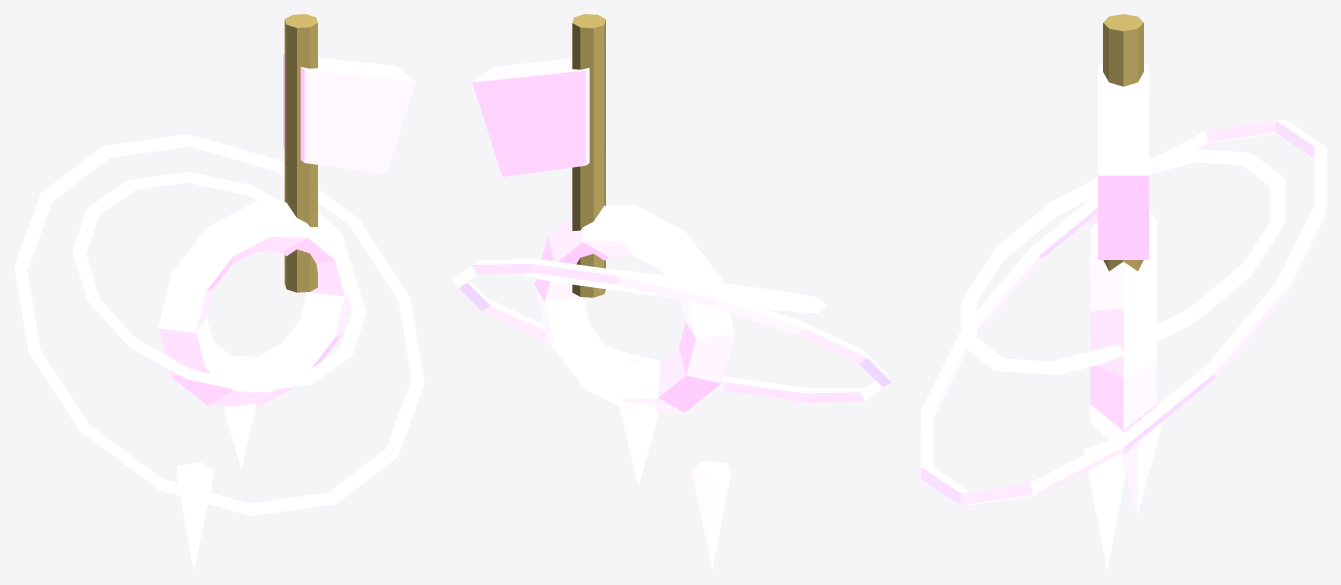
File: mocking_verse.glb
The picture shows the model from 3 angles, left to right: view 1: azimuth 30°, elevation 25°; view 2: azimuth 150°, elevation 25°; view 3: azimuth 270°, elevation 25°; orthographic projection. The views are drawn at different scales.
Visible parts, largest first — view 1: NoteHead, SoundWave_1, NoteFlag, SoundWave_0, NoteStem, VerseWake_1, VerseWake_0; view 2: NoteHead, NoteFlag, SoundWave_1, NoteStem, SoundWave_0, VerseWake_1, VerseWake_0; view 3: SoundWave_1, SoundWave_0, NoteHead, NoteFlag, NoteStem, VerseWake_1, VerseWake_0.
Part boxes in pixels (x1,y1,x2,y2): NoteHead: [158, 201, 349, 407]; SoundWave_1: [14, 134, 424, 515]; NoteFlag: [283, 54, 415, 173]; SoundWave_0: [72, 172, 366, 392]; NoteStem: [284, 14, 317, 292]; VerseWake_1: [176, 462, 214, 569]; VerseWake_0: [223, 403, 256, 469]; NoteHead: [534, 204, 734, 413]; NoteFlag: [472, 54, 607, 176]; SoundWave_1: [453, 259, 891, 402]; NoteStem: [572, 14, 605, 297]; SoundWave_0: [523, 268, 826, 313]; VerseWake_1: [691, 461, 730, 569]; VerseWake_0: [618, 399, 658, 486]; SoundWave_1: [920, 120, 1326, 505]; SoundWave_0: [961, 149, 1285, 374]; NoteHead: [1090, 211, 1156, 454]; NoteFlag: [1098, 64, 1148, 259]; NoteStem: [1103, 14, 1143, 271]; VerseWake_1: [1083, 441, 1125, 569]; VerseWake_0: [1120, 404, 1163, 514].
Size of the model in its own units: 1.03 by 1.33 by 0.7964.
